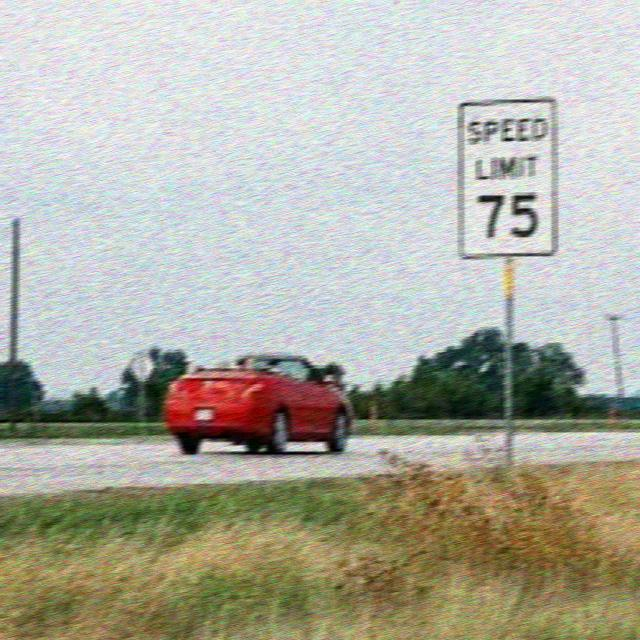speedLimit75: (458, 98, 555, 261)
